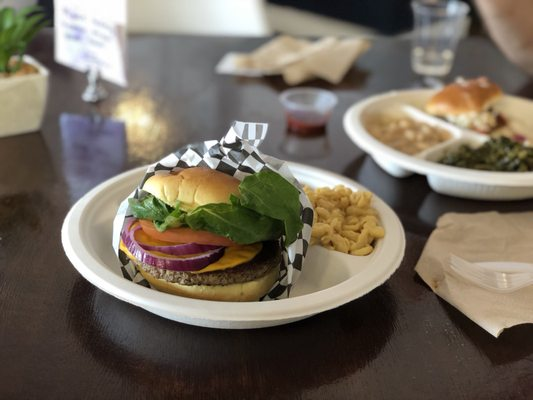pizza: (469, 0, 533, 81), (410, 0, 472, 82), (279, 87, 338, 137)
soup: (116, 165, 315, 302)
sushi: (342, 82, 533, 201), (278, 87, 338, 137)
